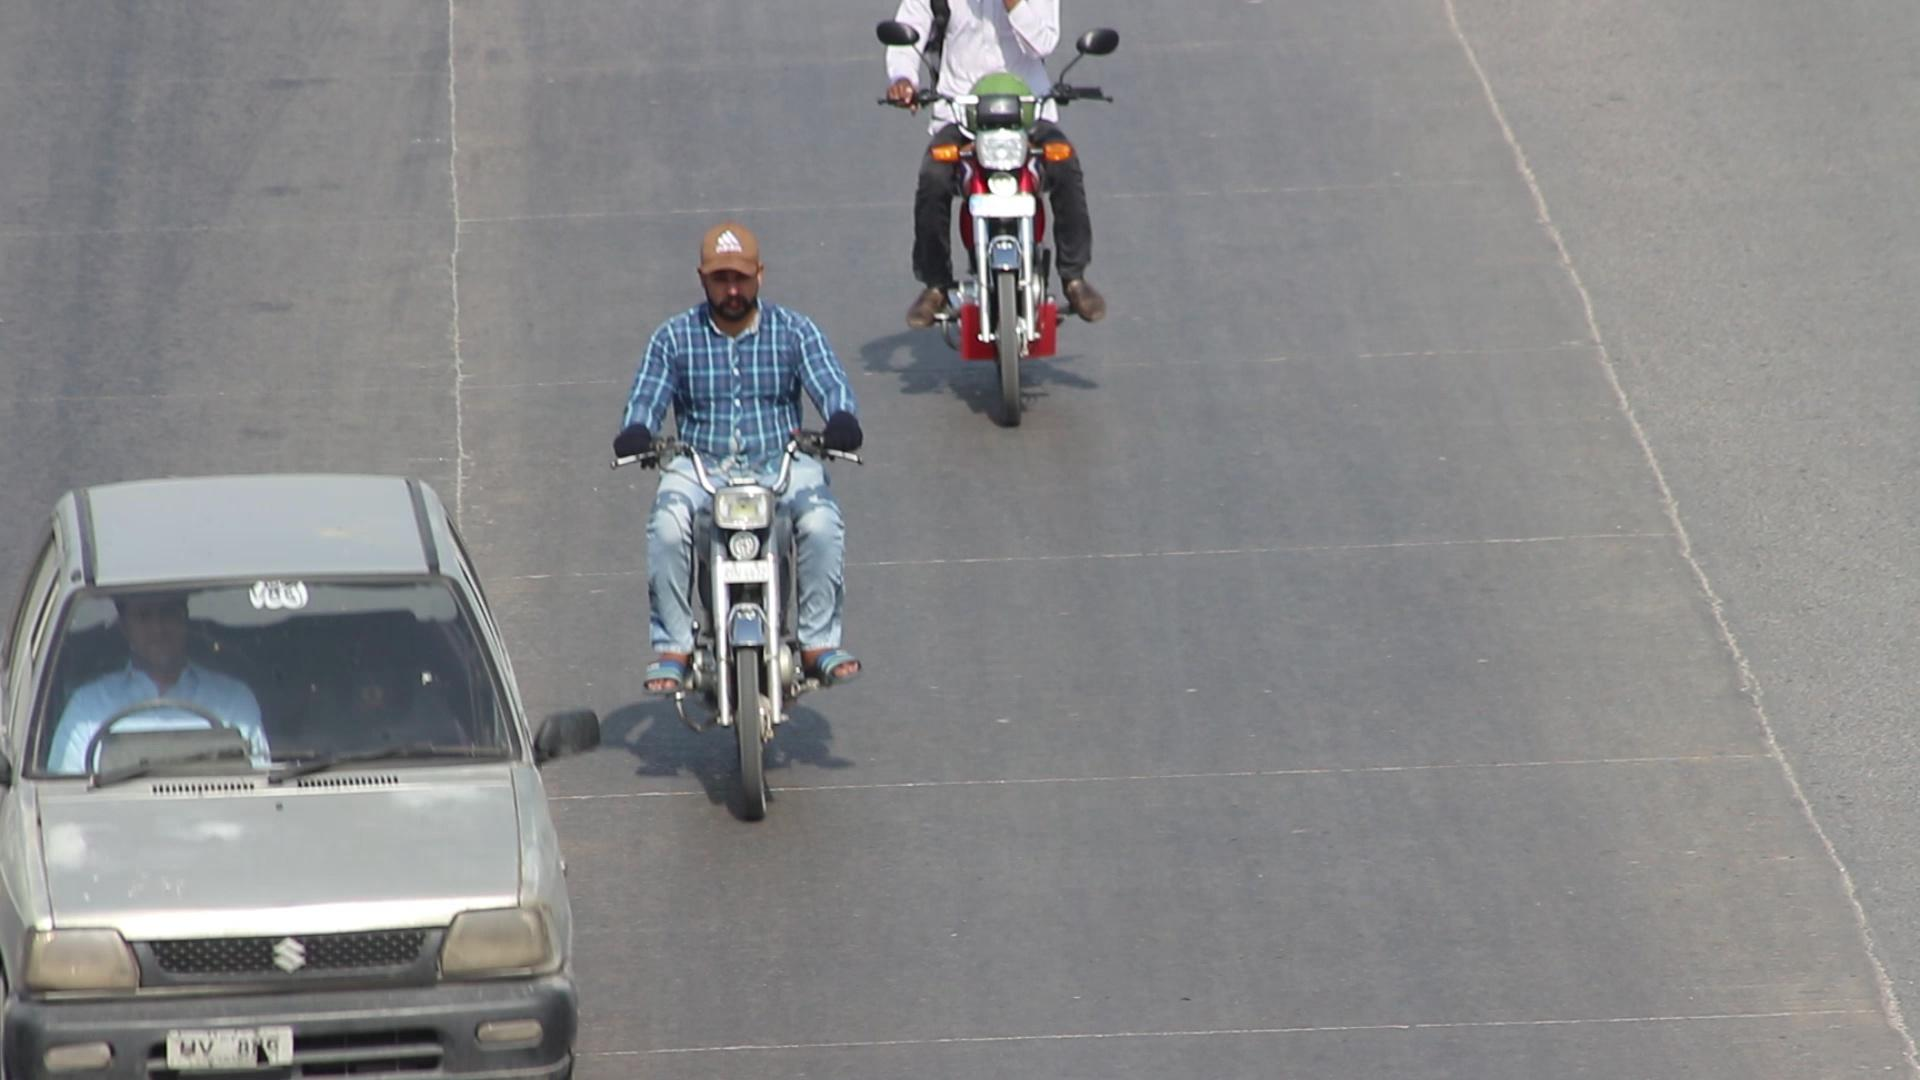windshield: (15, 560, 530, 783)
